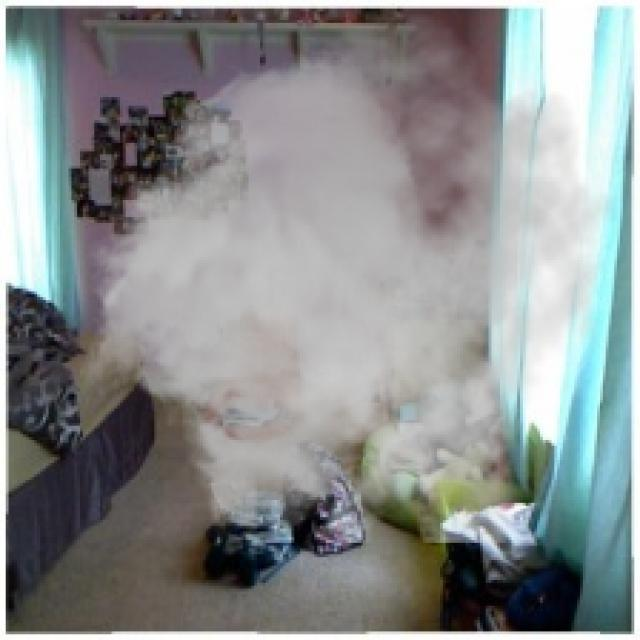Smoke: (77, 11, 617, 543)
